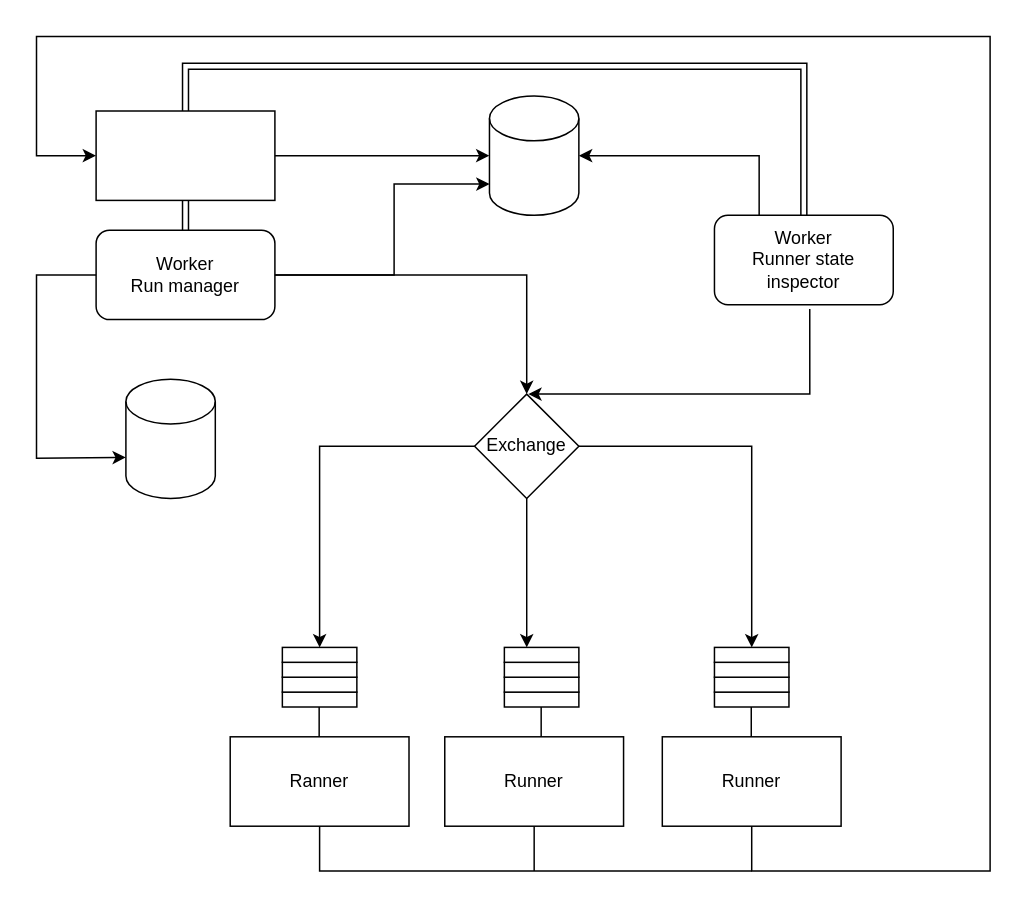
The diagram is 1028 pixels wide and 909 high, and some of its shapes have lost their labels. Here are the shapes that lost their labels. From the top down, the box of each, then its label:
(95, 110, 275, 200): API
(488, 95, 579, 215): DB
(124, 378, 215, 498): Redis
